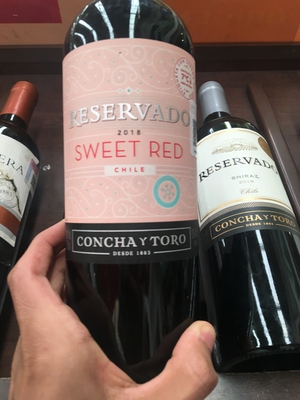reservado sweet red: (58, 10, 211, 381)
